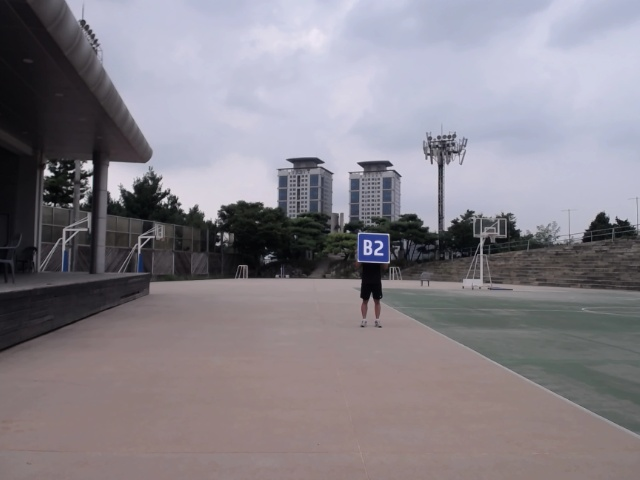delivery_b2: (357, 230, 391, 265)
